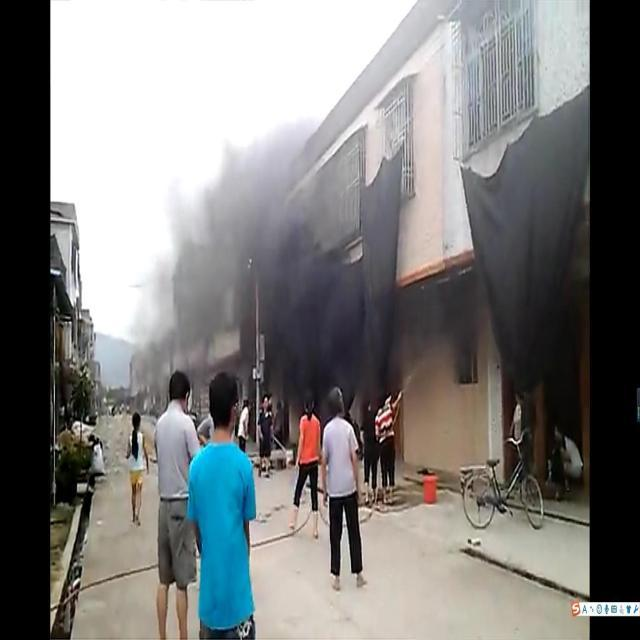Smoke: (130, 144, 491, 420)
